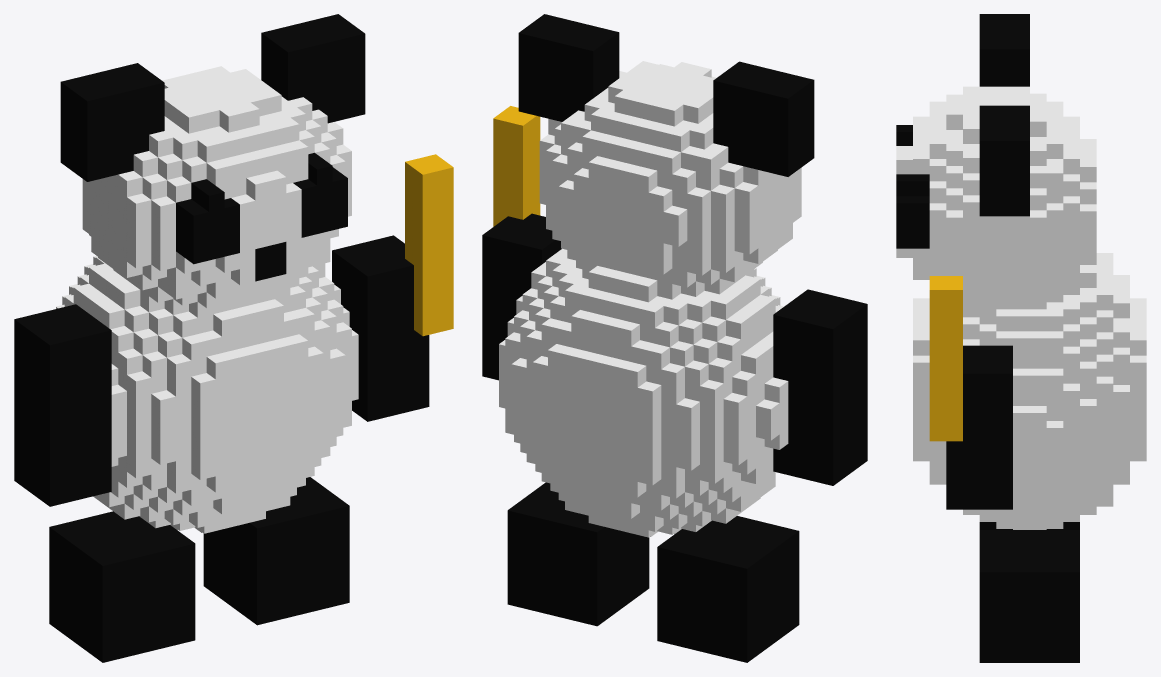
Rendered from pandaccini_bananini.glb.
3 views of the same model, side by side, from view 1: azimuth 30°, elevation 25°; view 2: azimuth 150°, elevation 25°; view 3: azimuth 270°, elevation 25° (orthographic). The views are drawn at different scales.
Visible parts, largest first — view 1: brainrot; view 2: brainrot; view 3: brainrot.
Boxes of the visible parts, x1,y1,x2,y2 form: brainrot: (14,14,453,662); brainrot: (482,14,867,662); brainrot: (896,14,1146,662).
Bounding box in the file's own units: 3.57 × 5 × 2.14.
1 material, 1 textured.
